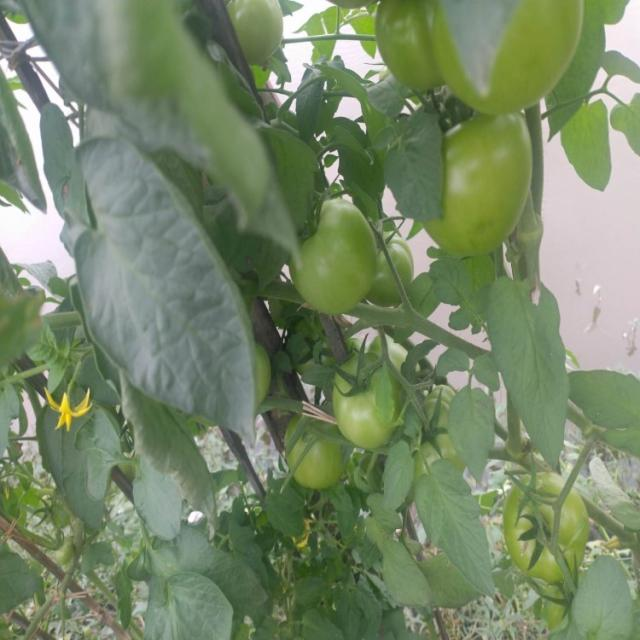tomato: (428, 2, 595, 108), (447, 114, 533, 256), (294, 201, 372, 311), (506, 474, 586, 574), (340, 353, 399, 445), (280, 417, 338, 489), (378, 4, 422, 86), (230, 1, 289, 60), (413, 384, 455, 465), (379, 238, 409, 303), (252, 345, 271, 395)
